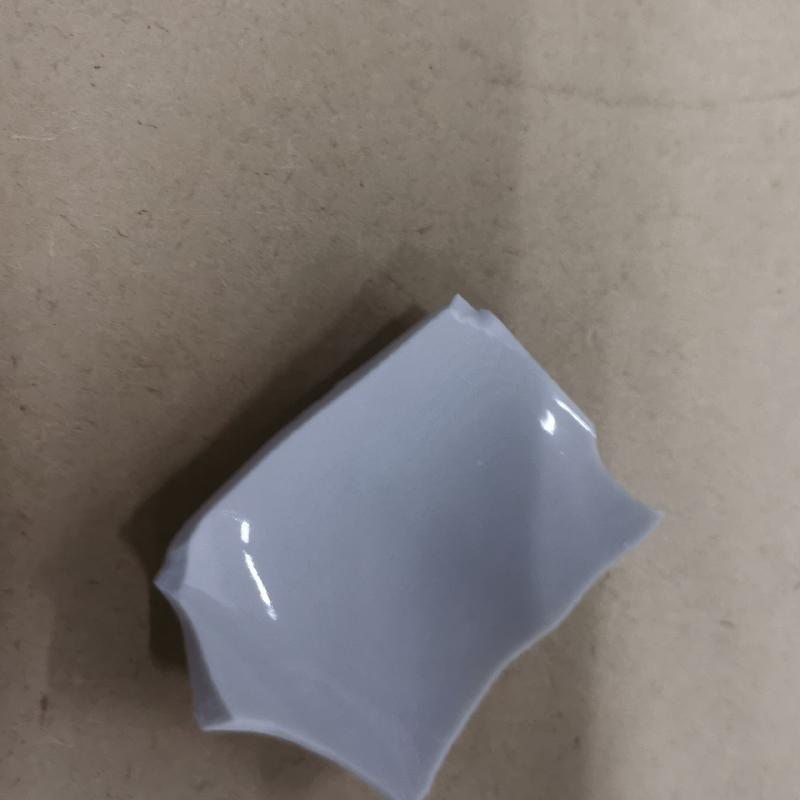ceram: (149, 287, 672, 800)
